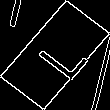L_NW: (24, 27, 86, 83)
